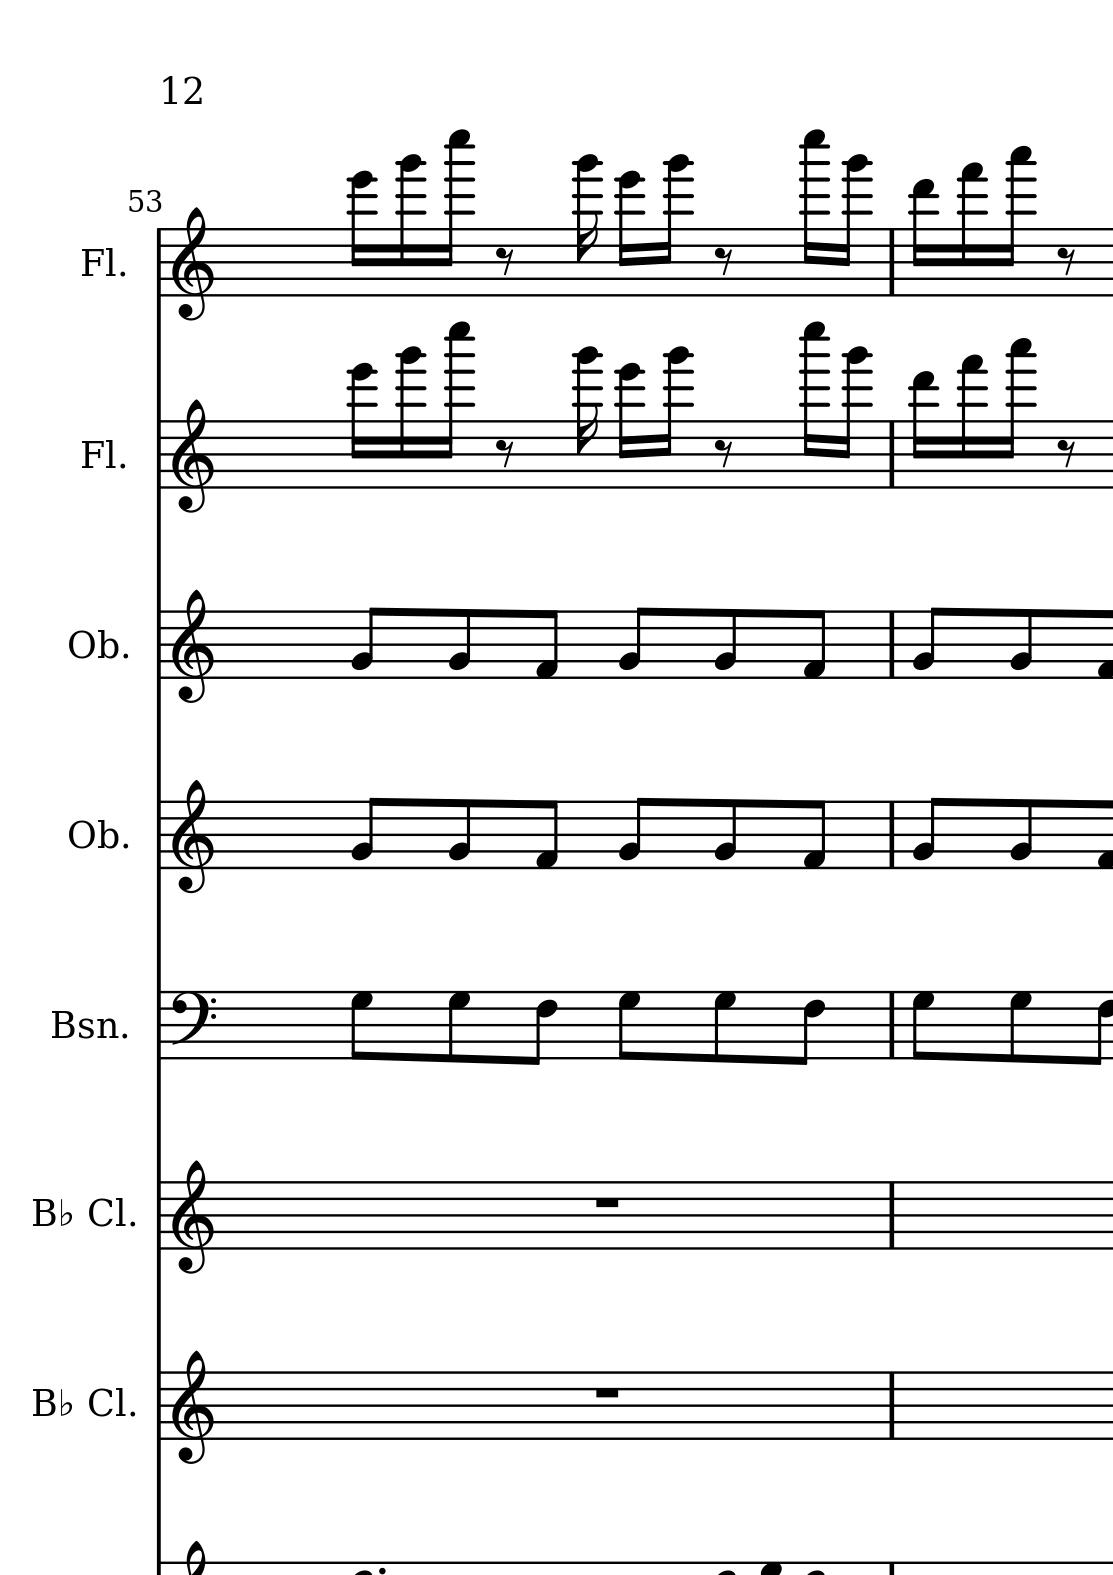1: (160, 69, 178, 107)
16_13: (908, 365, 937, 490), (909, 176, 938, 299)
16_14: (616, 166, 646, 302), (347, 170, 378, 299), (616, 361, 644, 491), (347, 362, 376, 491)
16_15: (955, 354, 988, 492), (956, 161, 989, 299)
16_16: (840, 346, 873, 491), (570, 346, 603, 490), (395, 346, 428, 491), (394, 154, 426, 299), (661, 153, 694, 297), (661, 346, 694, 490), (840, 154, 872, 299), (571, 154, 603, 299)
16_17: (1001, 144, 1035, 299), (1001, 338, 1035, 492)
16_19: (440, 129, 477, 299), (438, 322, 476, 491), (797, 129, 830, 297), (797, 322, 830, 489)
2: (179, 72, 204, 110)
3: (145, 187, 161, 216)
5: (126, 185, 143, 216)
8_1: (532, 608, 560, 682), (800, 609, 828, 682), (532, 800, 560, 872), (800, 800, 828, 872)
8_2: (617, 604, 650, 682), (912, 604, 946, 682), (617, 795, 650, 872), (912, 795, 946, 872), (351, 604, 383, 682), (351, 796, 383, 871), (712, 798, 738, 871), (447, 607, 472, 682), (713, 608, 738, 682), (447, 797, 472, 871), (1008, 798, 1033, 871), (1009, 607, 1033, 682)
8_6: (523, 989, 558, 1070), (791, 989, 826, 1068)
8_7: (1007, 989, 1035, 1066), (712, 990, 738, 1066), (348, 989, 375, 1063), (446, 990, 472, 1064), (911, 990, 937, 1063), (617, 989, 642, 1062)
Bsn: (49, 1005, 118, 1048)
Cl: (84, 1382, 129, 1426), (86, 1192, 128, 1234)
Fclef: (167, 989, 219, 1060)
Fl: (77, 436, 119, 476), (77, 244, 118, 282)
Gclef: (169, 586, 218, 707), (169, 397, 218, 517), (169, 778, 217, 896), (169, 1160, 217, 1278), (169, 1349, 217, 1467), (170, 205, 217, 323)
Ob: (67, 813, 122, 859), (67, 623, 122, 667)
Rests1: (591, 1193, 623, 1213), (590, 1384, 623, 1402)
Rests8: (712, 244, 736, 277), (491, 437, 516, 470), (1055, 244, 1079, 276), (1055, 437, 1079, 468), (493, 244, 516, 277), (712, 437, 735, 470)
Single_barline: (879, 1372, 903, 1439), (879, 802, 903, 869), (879, 1182, 903, 1249), (881, 610, 903, 678), (882, 992, 903, 1058), (882, 229, 901, 295), (151, 801, 169, 871), (151, 610, 169, 680), (151, 228, 169, 297), (882, 421, 901, 486), (151, 421, 169, 489), (152, 992, 170, 1058), (152, 1372, 167, 1441), (152, 1181, 167, 1251)
